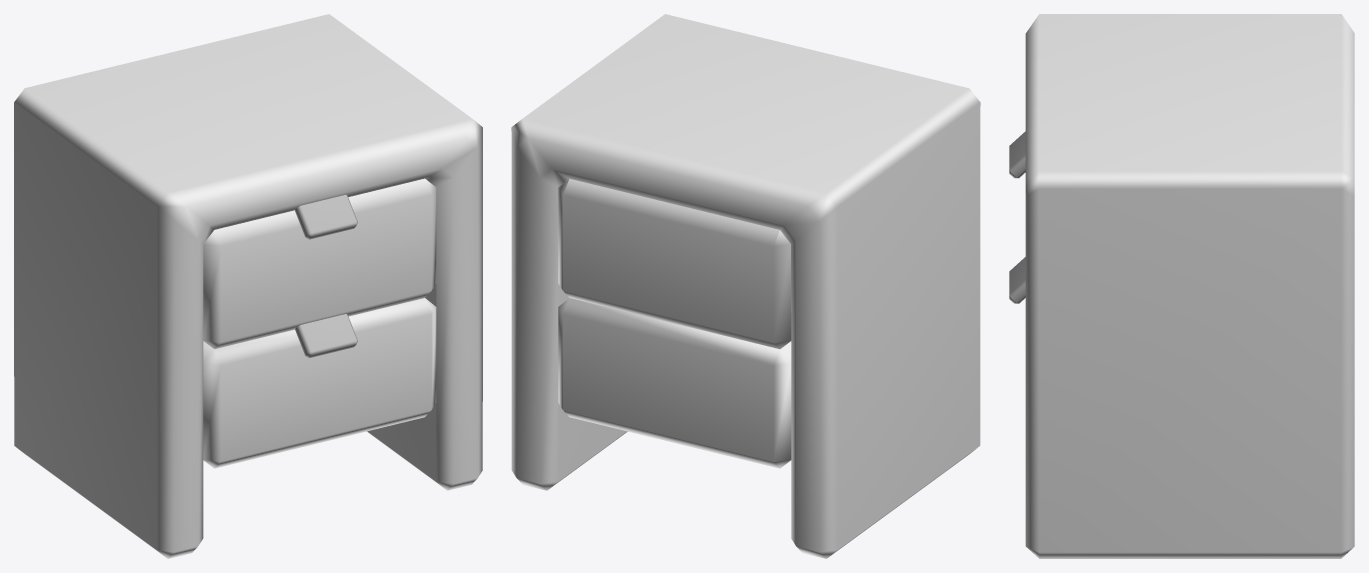
The model's file is dresser_001.fbx.
The picture shows the model from 3 angles, left to right: view 1: azimuth 30°, elevation 25°; view 2: azimuth 150°, elevation 25°; view 3: azimuth 270°, elevation 25°; orthographic projection. The views are drawn at different scales.
Visible parts, largest first — view 1: dresser_001; view 2: dresser_001; view 3: dresser_001.
Boxes of the visible parts, box(x1,y1,x2,y2) form: dresser_001: box(14, 14, 482, 558); dresser_001: box(511, 14, 980, 558); dresser_001: box(1009, 14, 1354, 558).
Size of the model in its own units: 70.61 by 61.23 by 75.81.
